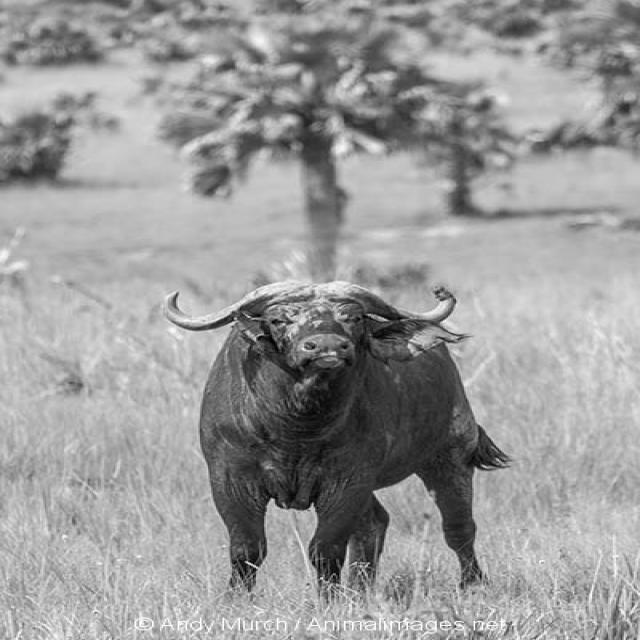Buffalo: (164, 282, 518, 604)
